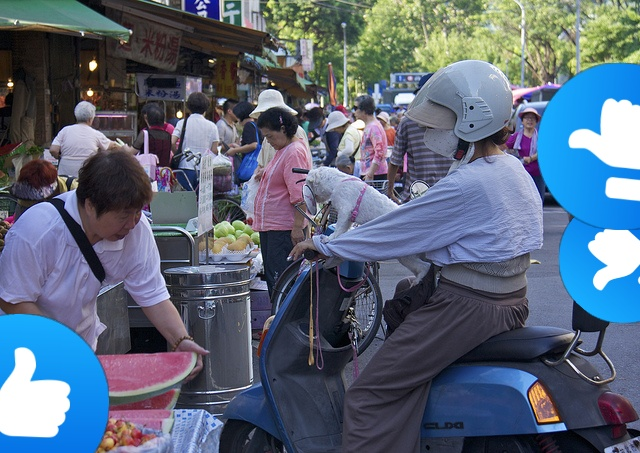like: (537, 63, 640, 230), (0, 314, 109, 453), (559, 194, 640, 323)
